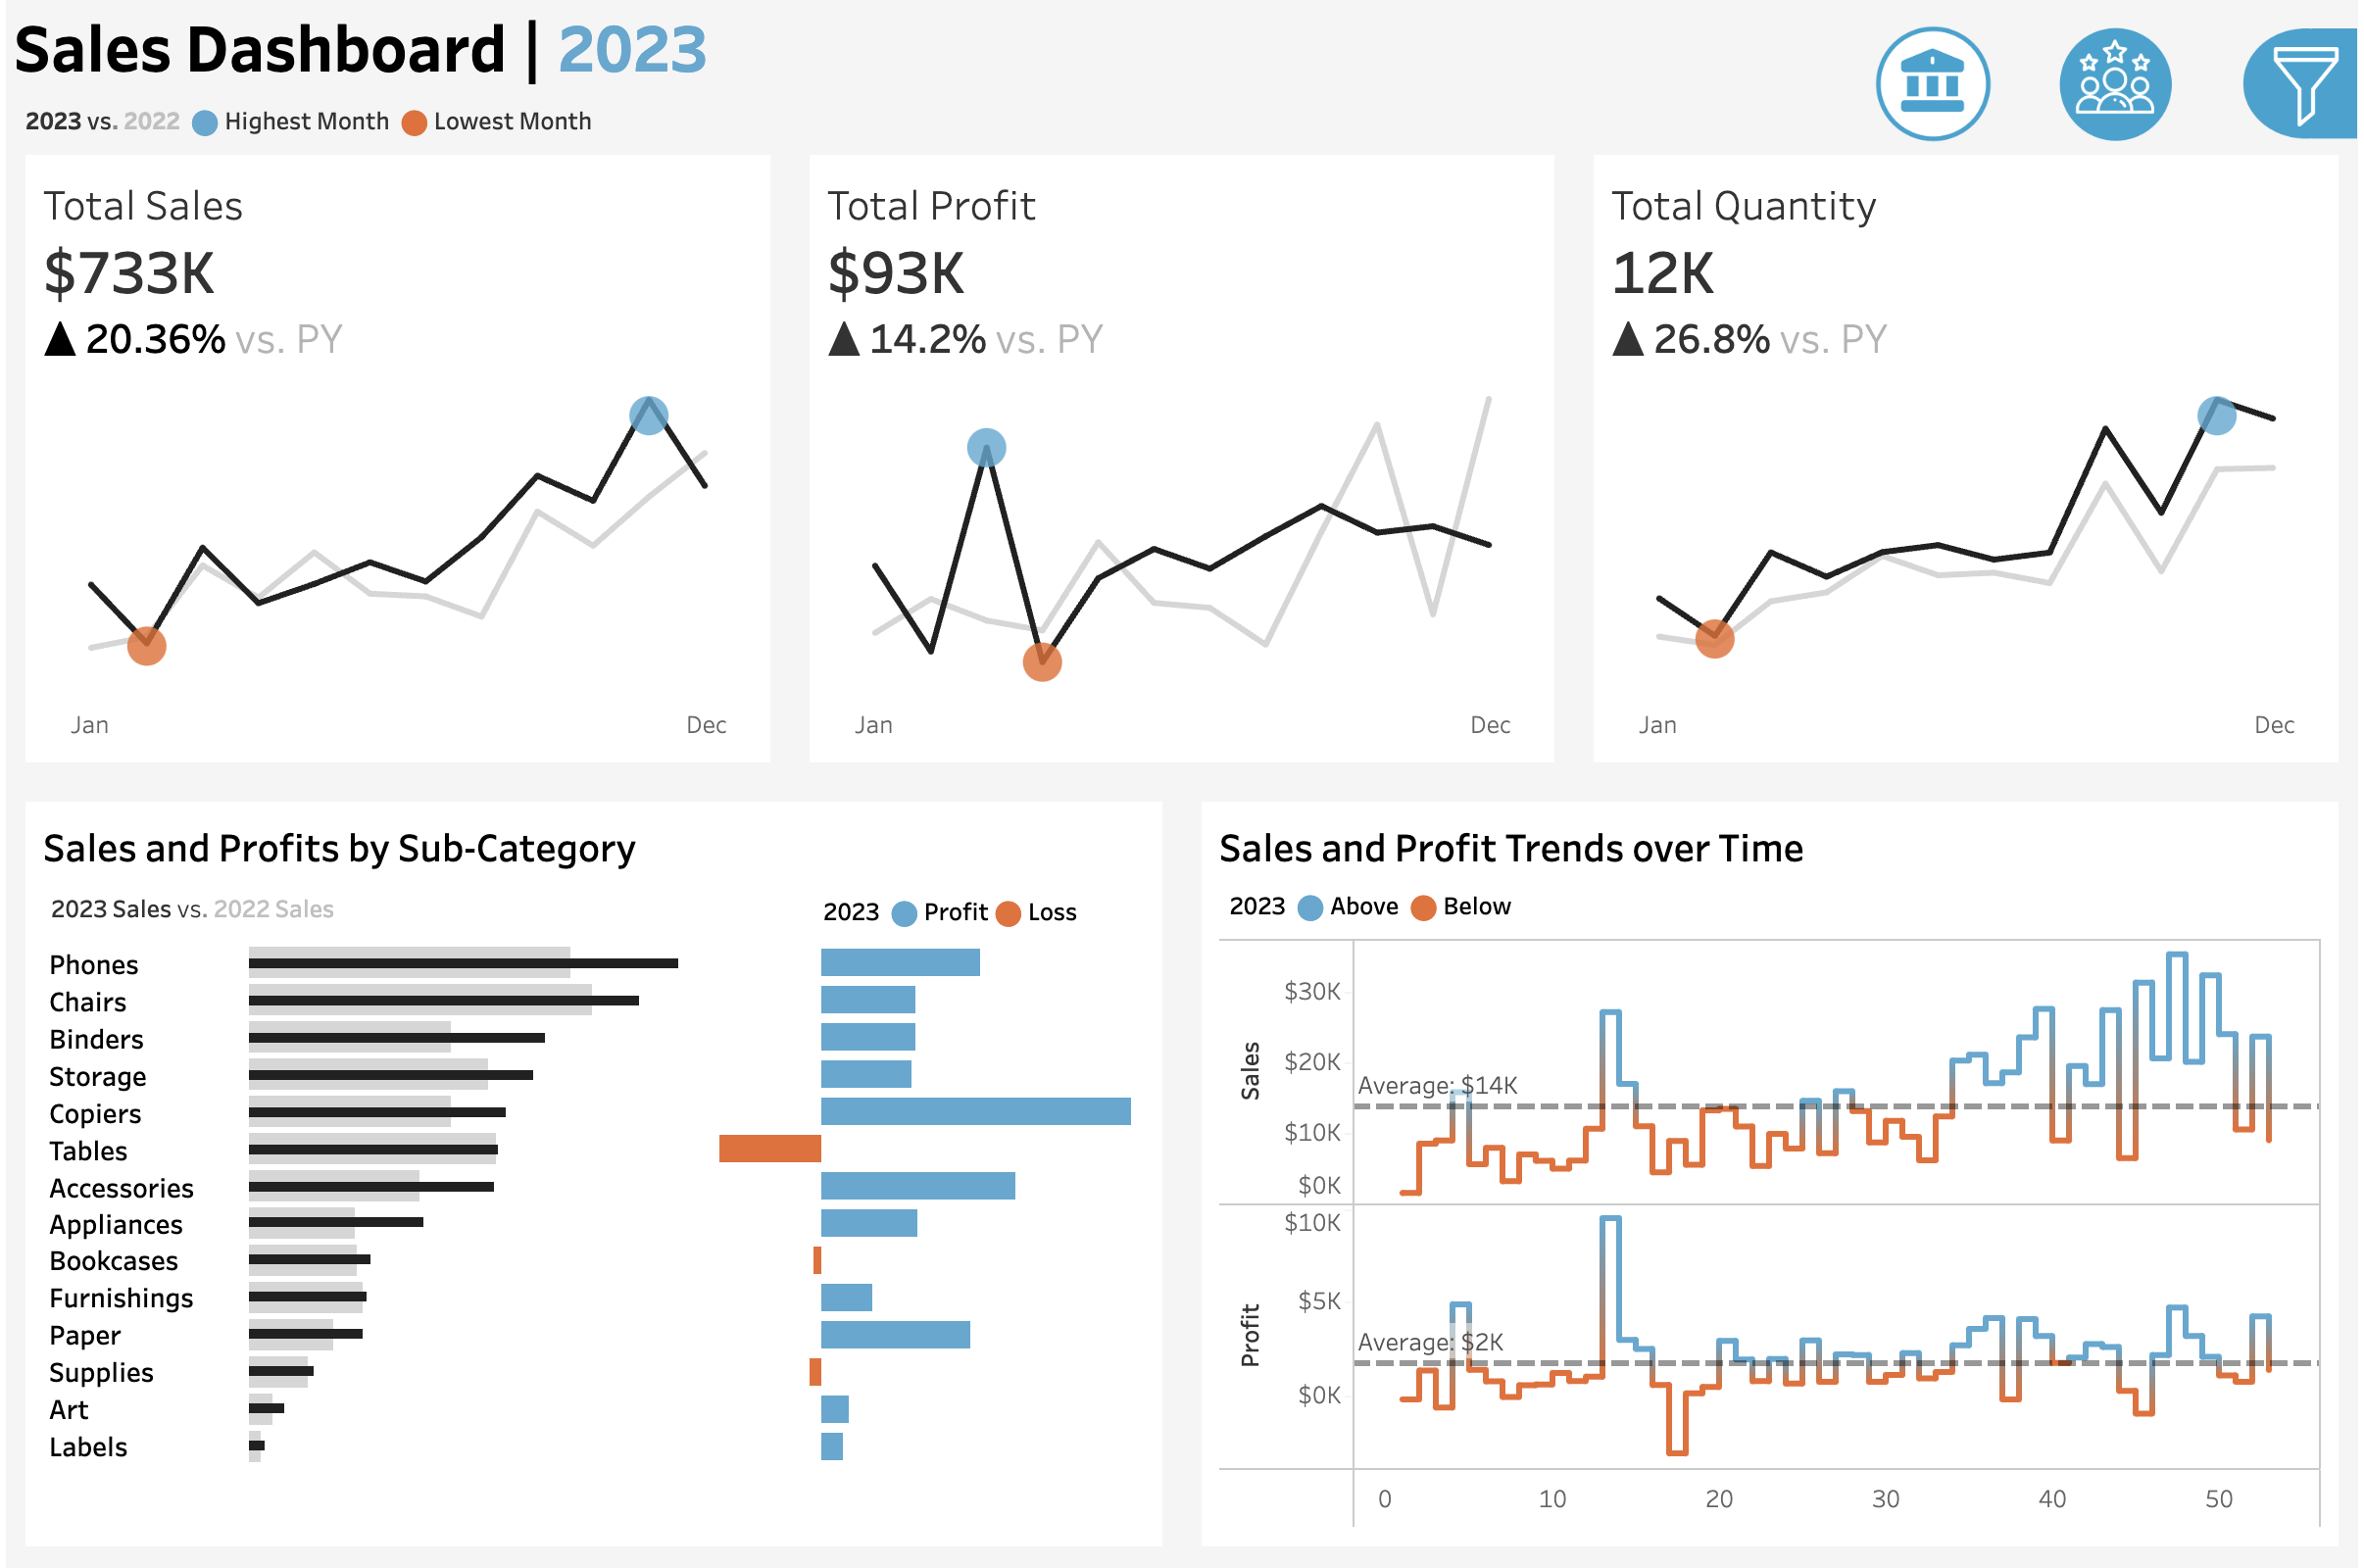

What the dashboard file says about the page in this screenshot:
{"tool":"tableau","page":{"name":"Sales Dashboard","canvas":[1200,800],"ordinal":0},"visuals":[{"type":"text","box":[0,0,1200,52]},{"type":"dashboard-object","box":[937,9,93,68]},{"type":"dashboard-object","box":[1030,9,93,68]},{"type":"blank","box":[959,10,230,79]},{"type":"worksheet","title":"Legends -KPI","mark":"Automatic","box":[0,68,1200,32]},{"type":"text","box":[959,89,230,34]},{"type":"worksheet","title":"Kpi Sales","mark":"Automatic","rows":["Calculation_4880283533382463493"],"cols":["Order Date"],"box":[0,100,400,320]},{"type":"worksheet","title":"KPI Profit","mark":"Automatic","rows":["Min / Max Sales (copy)_4880283533393883152"],"cols":["Order Date"],"box":[400,100,400,320]},{"type":"worksheet","title":"KPI Quantity","mark":"Automatic","rows":["Min / Max Sales (copy) (copy)_4880283533393895441"],"cols":["Order Date"],"box":[800,100,400,320]},{"type":"parameter","param":"[Parameters].[Parameter 1]","box":[959,123,230,52]},{"type":"blank","box":[959,175,230,43]},{"type":"text","box":[959,218,230,29]},{"type":"filter","title":"Kpi Sales","param":"[federated.0vpg7620i553v215maj5n0adzzzw].[none:Category:nk]","box":[959,247,230,52]},{"type":"filter","title":"Kpi Sales","param":"[federated.0vpg7620i553v215maj5n0adzzzw].[none:Sub-Category:nk]","box":[959,299,230,52]},{"type":"blank","box":[959,351,230,49]},{"type":"text","box":[959,400,230,29]},{"type":"filter","title":"Kpi Sales","param":"[federated.0vpg7620i553v215maj5n0adzzzw].[none:Region:nk]","box":[959,429,230,52]},{"type":"text","box":[15,435,570,34]},{"type":"text","box":[615,435,570,34]},{"type":"worksheet","title":"Legends - Subcategory","mark":"Automatic","box":[15,469,398,32]},{"type":"text","box":[413,469,172,32]},{"type":"text","box":[615,469,570,25]},{"type":"filter","title":"Kpi Sales","param":"[federated.0vpg7620i553v215maj5n0adzzzw].[none:State:nk]","box":[959,481,230,52]},{"type":"worksheet","title":"Weekly Trends","mark":"Automatic","rows":["Calculation_4880283533366792192","Calculation_4880283533392932874"],"cols":["Order Date"],"box":[615,494,570,291]},{"type":"worksheet","title":"Sub Category Comparison","mark":"Bar","rows":["Sub-Category","Calculation_4880283533466214424"],"cols":["Calculation_4880283533367201793","Calculation_4880283533366792192","Calculation_4880283533392932874"],"box":[15,501,570,284]},{"type":"filter","title":"Kpi Sales","param":"[federated.0vpg7620i553v215maj5n0adzzzw].[none:City:nk]","box":[959,533,230,52]}]}

Visuals, with their boxes in screenshot pixels (x1, y1, x2, y2), scaled from the page's 1200x800 canvas onto the 2364x1568 screenshot:
text: 0:0:2363:102
dashboard-object: 1846:18:2029:151
dashboard-object: 2029:18:2212:151
blank: 1890:20:2342:174
"Legends -KPI" worksheet: 0:133:2363:196
text: 1890:174:2342:241
"Kpi Sales" worksheet: 0:196:788:823
"KPI Profit" worksheet: 788:196:1576:823
"KPI Quantity" worksheet: 1576:196:2363:823
parameter: 1890:241:2342:343
blank: 1890:343:2342:427
text: 1890:427:2342:484
"Kpi Sales" filter: 1890:484:2342:586
"Kpi Sales" filter: 1890:586:2342:688
blank: 1890:688:2342:784
text: 1890:784:2342:841
"Kpi Sales" filter: 1890:841:2342:943
text: 29:853:1153:919
text: 1211:853:2335:919
"Legends - Subcategory" worksheet: 29:919:813:982
text: 813:919:1153:982
text: 1211:919:2335:968
"Kpi Sales" filter: 1890:943:2342:1045
"Weekly Trends" worksheet: 1211:968:2335:1539
"Sub Category Comparison" worksheet (Bar marks): 29:982:1153:1539
"Kpi Sales" filter: 1890:1045:2342:1147
